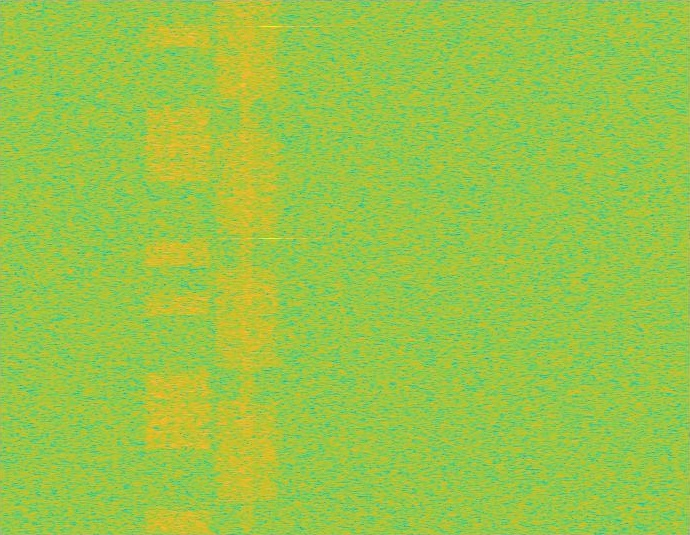5G: (212, 0, 281, 534)
DSSS: (239, 0, 255, 534)
LTE: (143, 0, 212, 534)
Radar: (264, 0, 278, 534)
